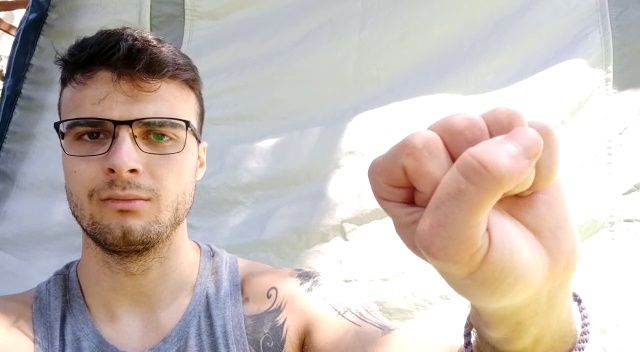Fist: (364, 107, 578, 289)
